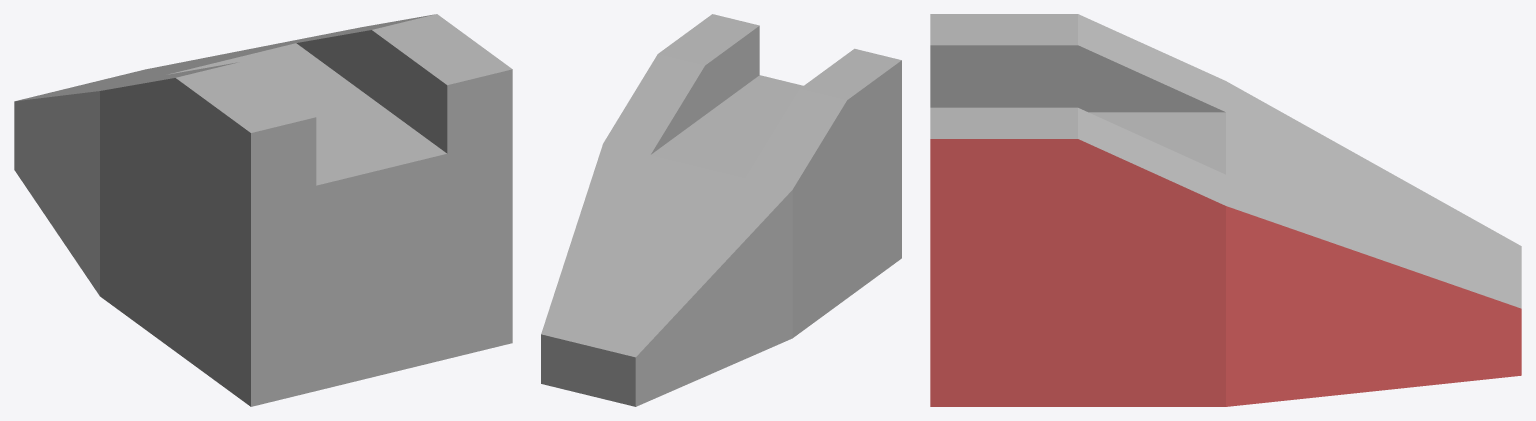
3 views of the same model, side by side, from view 1: azimuth 30°, elevation 25°; view 2: azimuth 150°, elevation 25°; view 3: azimuth 270°, elevation 25° (orthographic). The views are drawn at different scales.
Parts seen in each view (by area): view 1: 7-14.SLDPRT; view 2: 7-14.SLDPRT; view 3: 7-14.SLDPRT.
Boxes of the visible parts, bbox=[...] form: 7-14.SLDPRT: bbox=[14, 14, 512, 406]; 7-14.SLDPRT: bbox=[541, 14, 901, 406]; 7-14.SLDPRT: bbox=[930, 14, 1521, 406].
Size of the model in its own units: 0.04 by 0.04 by 0.08.
